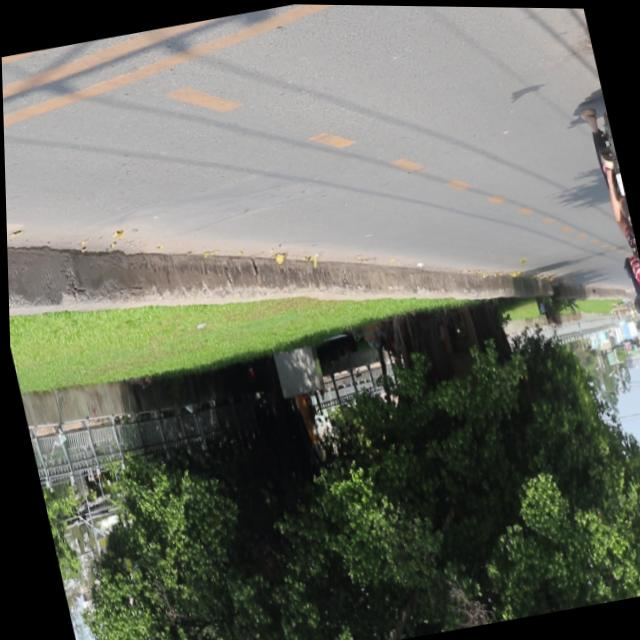licenseplate: (574, 86, 640, 362)
nohelmet: (613, 169, 624, 194)
